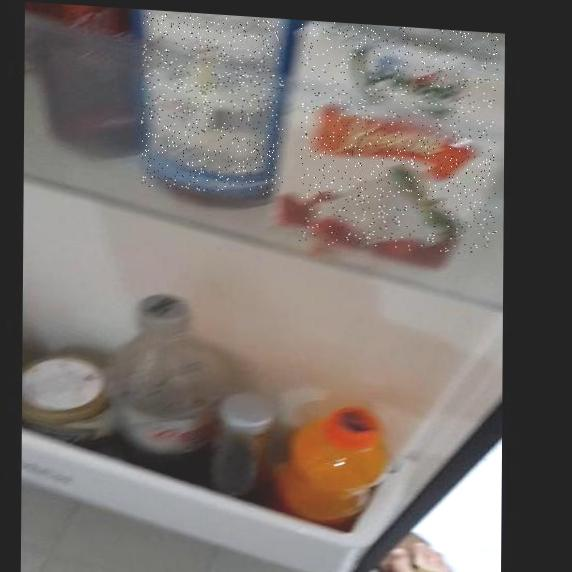cream: (298, 20, 498, 256)
sauce: (141, 12, 284, 196)
